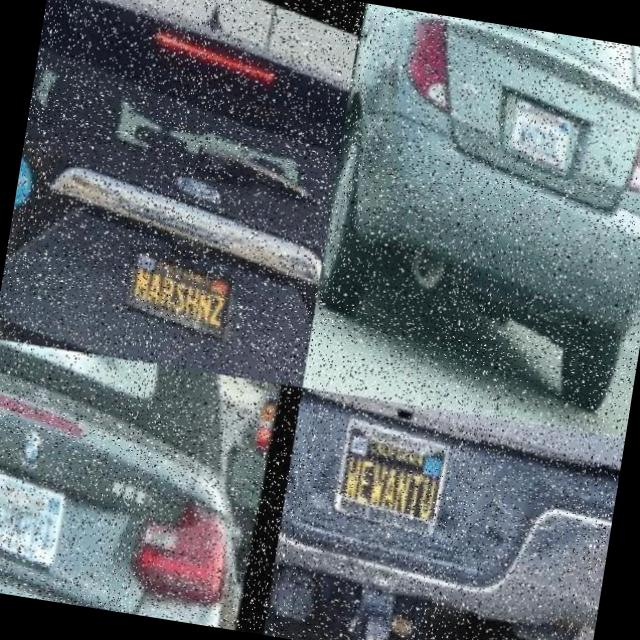LicensePlate: (318, 402, 458, 538), (115, 229, 232, 332), (0, 454, 67, 570), (500, 88, 579, 167)
